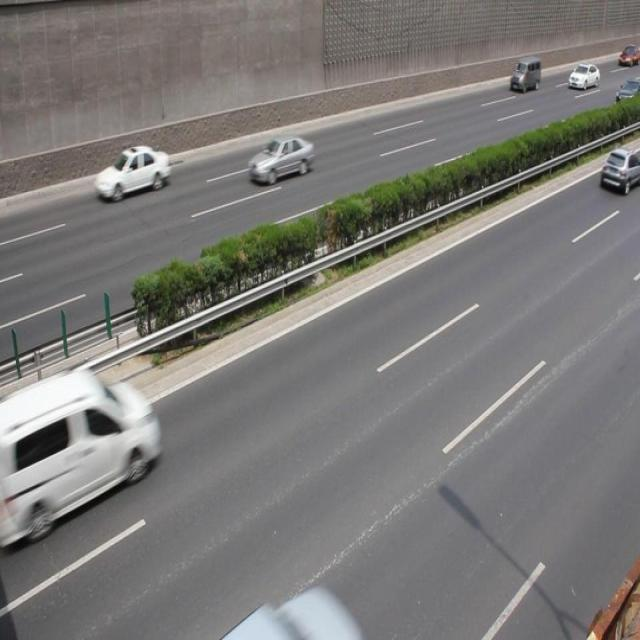car: (1, 370, 160, 546), (216, 583, 360, 640), (95, 145, 171, 203), (248, 133, 314, 188), (597, 150, 640, 193), (566, 60, 598, 92)
truck: (508, 54, 540, 92)
